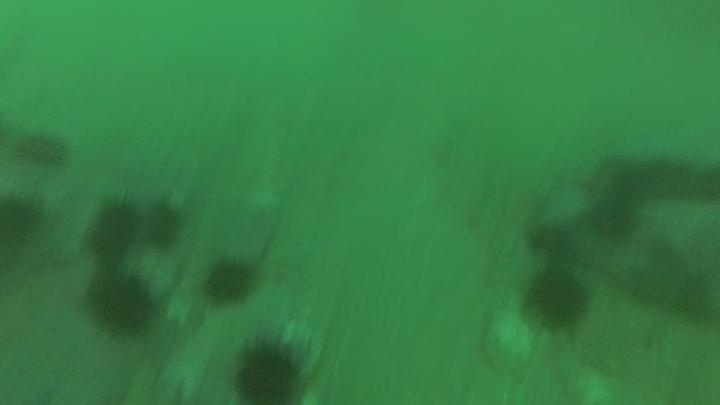echinus: (230, 334, 307, 404), (87, 270, 157, 336), (526, 266, 592, 330), (85, 193, 143, 262), (202, 256, 256, 306), (0, 191, 44, 251), (589, 196, 640, 243), (140, 199, 186, 251), (527, 220, 578, 265), (14, 128, 70, 168)
scallop: (481, 307, 537, 376)
